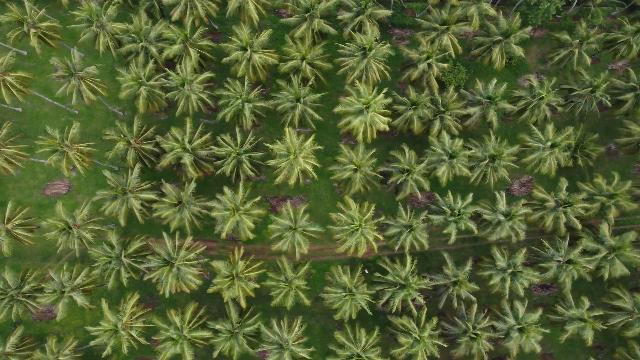trees: (37, 199, 118, 260), (138, 235, 214, 300), (86, 295, 159, 358), (83, 228, 155, 291), (94, 166, 164, 228), (31, 263, 106, 320), (466, 11, 534, 72), (524, 180, 594, 238), (206, 248, 271, 310), (370, 256, 436, 317), (219, 24, 282, 86), (527, 233, 598, 288), (576, 221, 640, 282), (149, 179, 215, 238), (156, 123, 222, 182), (409, 7, 477, 64), (149, 304, 218, 360), (334, 30, 397, 91), (208, 127, 273, 186), (486, 300, 550, 359), (207, 185, 272, 243), (34, 123, 101, 179), (328, 199, 389, 260), (265, 128, 326, 188), (334, 84, 395, 144), (161, 61, 222, 121), (49, 49, 112, 107), (202, 304, 267, 360), (543, 293, 609, 348), (114, 57, 174, 117), (321, 266, 382, 325), (473, 244, 535, 302), (68, 2, 131, 59), (104, 116, 167, 173), (515, 124, 582, 177), (271, 74, 331, 133), (5, 2, 66, 60), (437, 302, 499, 359), (215, 78, 278, 133), (267, 201, 325, 260), (464, 134, 525, 189), (457, 79, 517, 134), (554, 72, 620, 122), (156, 21, 218, 74), (113, 12, 170, 69), (425, 255, 481, 313), (471, 191, 530, 246), (508, 77, 569, 130), (386, 310, 450, 360), (330, 142, 387, 198), (261, 258, 319, 313), (377, 202, 435, 257), (2, 266, 57, 324), (277, 33, 335, 88), (581, 172, 640, 226), (420, 136, 478, 190), (388, 85, 444, 139), (425, 191, 481, 245), (381, 144, 434, 200), (278, 2, 341, 45), (258, 317, 318, 360), (1, 200, 47, 255), (329, 323, 389, 360), (334, 2, 391, 40), (2, 50, 39, 108), (1, 122, 37, 180), (544, 36, 596, 75), (168, 1, 225, 31)
